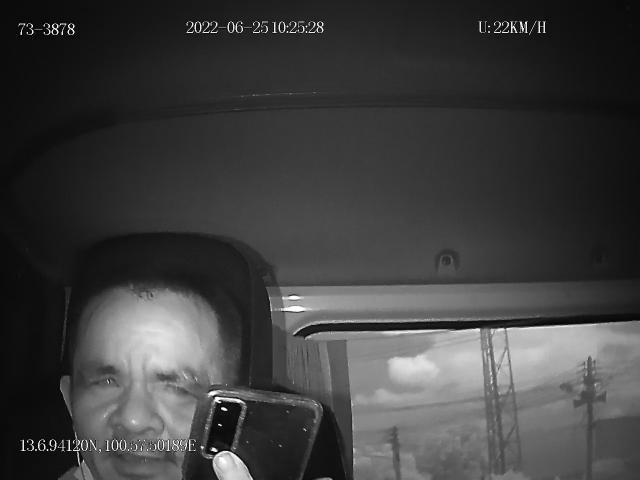PhoneUse: (182, 384, 324, 480)
SafeDriving: (152, 368, 202, 407), (80, 364, 128, 396)
